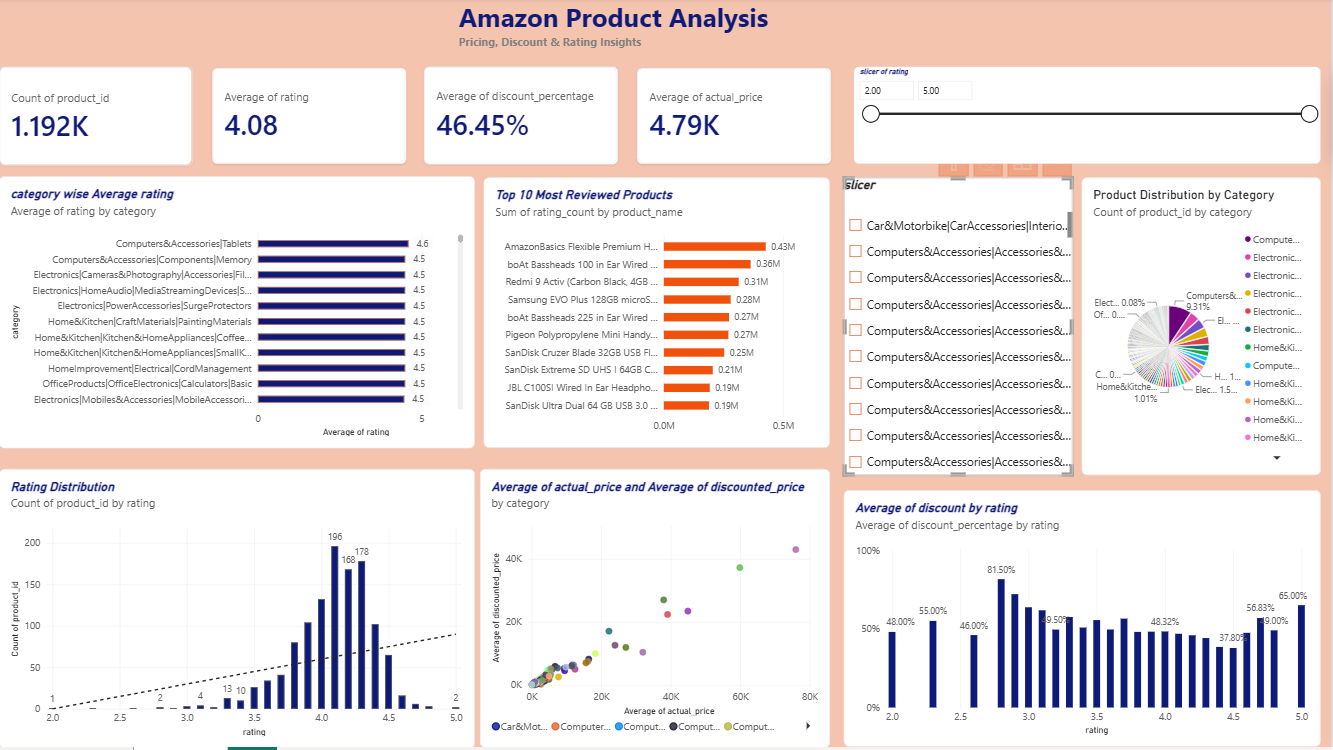

This screenshot's page, from the dashboard's own definition file:
{"tool":"powerbi","page":{"name":"Page 1","canvas":[1920,1080],"ordinal":0},"visuals":[{"type":"cardVisual","fields":{"Data":["CountNonNull(amazon.product_id)"]},"box":[0,98.1,280,143],"z":0},{"type":"cardVisual","fields":{"Data":["Avg(amazon.rating)"]},"box":[306.5,100.1,280,139],"z":1000},{"type":"cardVisual","fields":{"Data":["Avg(amazon.discount_percentage)"]},"box":[613.1,98.1,280,141],"z":2000},{"type":"cardVisual","fields":{"Data":["Avg(amazon.actual_price)"]},"box":[919.6,100.1,280,139],"z":3000},{"type":"textbox","box":[662.1,2,606.9,77.7],"z":4000},{"type":"clusteredBarChart","title":"category wise Average rating","fields":{"Category":["amazon.category"],"Y":["Avg(amazon.rating)"]},"box":[0,257.5,686.6,392.4],"z":5000},{"type":"clusteredColumnChart","title":"Rating Distribution","fields":{"Category":["amazon.rating"],"Y":["CountNonNull(amazon.product_id)"]},"box":[0,678.4,686.6,402.6],"z":6000},{"type":"clusteredBarChart","title":"Top 10 Most Reviewed Products","fields":{"Category":["amazon.product_name"],"Y":["Sum(amazon.rating_count)"]},"box":[698.8,258.7,499.4,389.8],"z":7000},{"type":"scatterChart","fields":{"Series":["amazon.category"],"X":["Avg(amazon.actual_price)"],"Y":["Avg(amazon.discounted_price)"]},"box":[693.4,679.1,504.8,402.4],"z":8000},{"type":"pieChart","title":"Product Distribution by Category","fields":{"Category":["amazon.category"],"Y":["CountNonNull(amazon.product_id)"]},"box":[1561.1,258.7,344.9,429.4],"z":8001},{"type":"clusteredColumnChart","title":"Average of discount by rating","fields":{"Category":["amazon.rating"],"Y":["Avg(amazon.discount_percentage)"]},"box":[1218,709.6,688,370.1],"z":8002},{"type":"slicer","title":"slicer","fields":{"Values":["amazon.category"]},"box":[1218,258.7,330.5,429.4],"z":8003},{"type":"slicer","fields":{"Values":["amazon.rating"]},"box":[1232.4,98.8,673.7,140.1],"z":8004}]}

Visuals, with their boxes in screenshot pixels (x1, y1, x2, y2), scaled from the page's 1920x1080 canvas onto the 1333x750 screenshot:
cardVisual - CountNonNull(amazon.product_id): locate(0, 68, 194, 167)
cardVisual - Avg(amazon.rating): locate(213, 70, 407, 166)
cardVisual - Avg(amazon.discount_percentage): locate(426, 68, 620, 166)
cardVisual - Avg(amazon.actual_price): locate(638, 70, 833, 166)
textbox: locate(460, 1, 881, 55)
"category wise Average rating" clusteredBarChart: locate(0, 179, 477, 451)
"Rating Distribution" clusteredColumnChart: locate(0, 471, 477, 749)
"Top 10 Most Reviewed Products" clusteredBarChart: locate(485, 180, 832, 450)
scatterChart - amazon.category x Avg(amazon.actual_price): locate(481, 472, 832, 749)
"Product Distribution by Category" pieChart: locate(1084, 180, 1323, 478)
"Average of discount by rating" clusteredColumnChart: locate(846, 493, 1323, 749)
"slicer" slicer: locate(846, 180, 1075, 478)
slicer - amazon.rating: locate(856, 69, 1323, 166)
